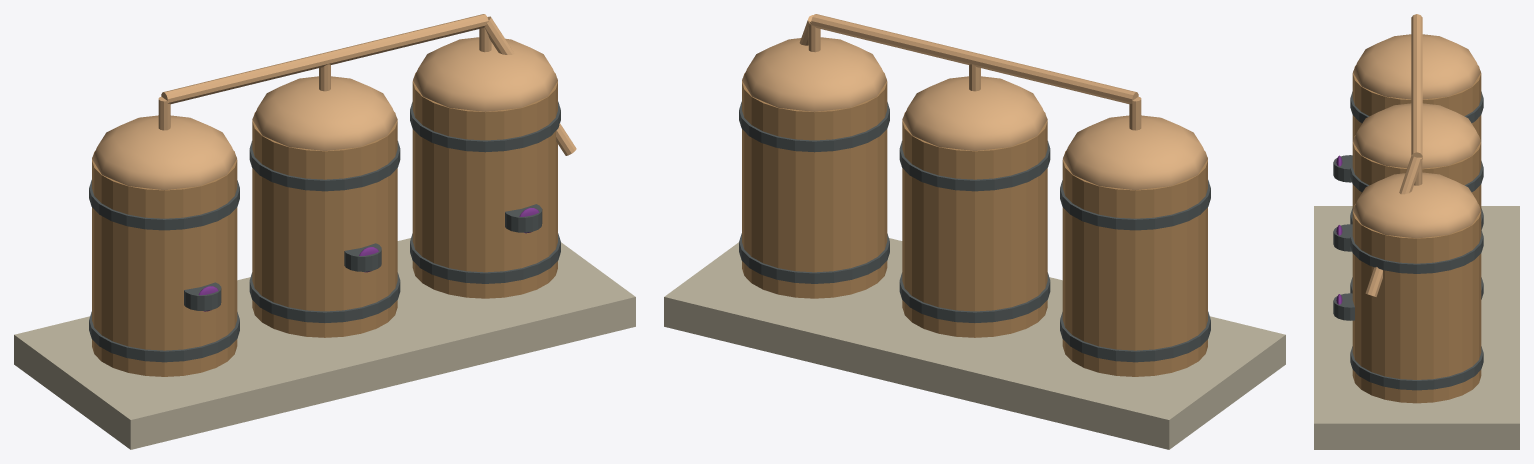
Rendered from fermentation_tanks.glb.
The picture shows the model from 3 angles, left to right: view 1: azimuth 30°, elevation 25°; view 2: azimuth 150°, elevation 25°; view 3: azimuth 270°, elevation 25°; orthographic projection. The views are drawn at different scales.
Visible parts, largest first — view 1: Stone production plinth, Copper fermentation tank.001, Copper fermentation tank, Copper fermentation tank.002, Rounded copper lid, Rounded copper lid.001, Rounded copper lid.002, Shared top pipe, Tank upper band.001, Tank lower band.001, Tank lower band.002, Tank lower band (+6 smaller); view 2: Stone production plinth, Copper fermentation tank, Copper fermentation tank.002, Copper fermentation tank.001, Rounded copper lid, Rounded copper lid.001, Rounded copper lid.002, Shared top pipe, Tank upper band.001, Tank lower band.001, Tank lower band.002, Tank lower band (+2 smaller); view 3: Stone production plinth, Copper fermentation tank.002, Rounded copper lid.002, Rounded copper lid, Rounded copper lid.001, Copper fermentation tank, Copper fermentation tank.001, Shared top pipe, Tank lower band.002, Tank upper band.002, Outlet pipe, Tank valve.002 (+4 smaller).
Part boxes in pixels (x1,y1,x2,y2): Stone production plinth: [14, 238, 635, 449]; Copper fermentation tank.001: [252, 112, 397, 337]; Copper fermentation tank: [92, 151, 237, 376]; Copper fermentation tank.002: [412, 73, 557, 298]; Rounded copper lid: [92, 115, 236, 190]; Rounded copper lid.001: [252, 76, 397, 150]; Rounded copper lid.002: [413, 37, 557, 111]; Shared top pipe: [161, 14, 488, 104]; Tank upper band.001: [249, 141, 400, 191]; Tank lower band.001: [249, 272, 400, 322]; Tank lower band.002: [410, 233, 560, 283]; Tank lower band: [89, 311, 239, 362]; Stone production plinth: [664, 238, 1285, 449]; Copper fermentation tank: [1062, 151, 1207, 376]; Copper fermentation tank.002: [742, 73, 887, 298]; Copper fermentation tank.001: [902, 112, 1047, 337]; Rounded copper lid: [1063, 115, 1207, 190]; Rounded copper lid.001: [902, 76, 1047, 150]; Rounded copper lid.002: [742, 37, 886, 111]; Shared top pipe: [811, 14, 1138, 104]; Tank upper band.001: [899, 141, 1050, 191]; Tank lower band.001: [899, 272, 1050, 322]; Tank lower band.002: [739, 233, 889, 283]; Tank lower band: [1060, 311, 1210, 362]; Stone production plinth: [1314, 206, 1519, 449]; Copper fermentation tank.002: [1352, 204, 1481, 403]; Rounded copper lid.002: [1353, 172, 1480, 238]; Rounded copper lid: [1353, 34, 1480, 99]; Rounded copper lid.001: [1353, 103, 1480, 168]; Copper fermentation tank: [1352, 65, 1481, 141]; Copper fermentation tank.001: [1352, 135, 1481, 210]; Shared top pipe: [1411, 14, 1422, 159]; Tank lower band.002: [1350, 346, 1483, 390]; Tank upper band.002: [1350, 230, 1483, 273]; Outlet pipe: [1365, 156, 1422, 296]; Tank valve.002: [1333, 293, 1354, 320].
Size of the model in its own units: 4.25 by 2.35 by 1.7.
